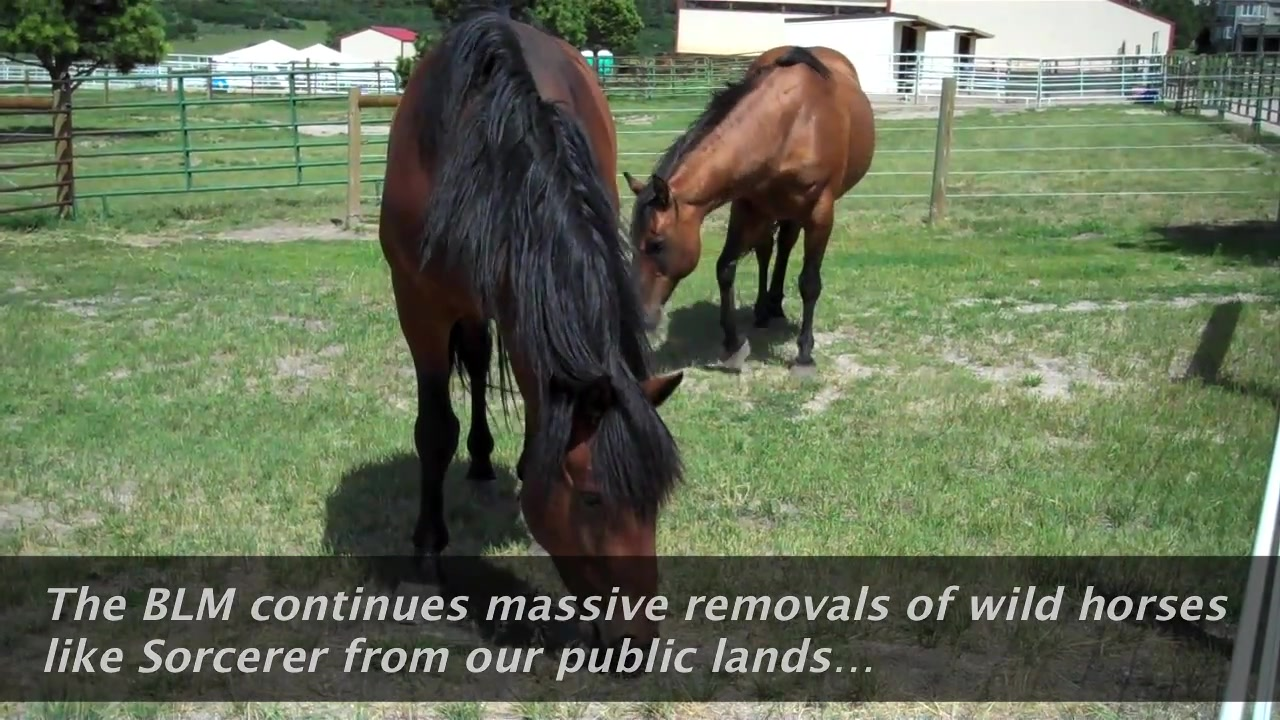horse: (380, 15, 688, 675), (620, 46, 880, 372)
